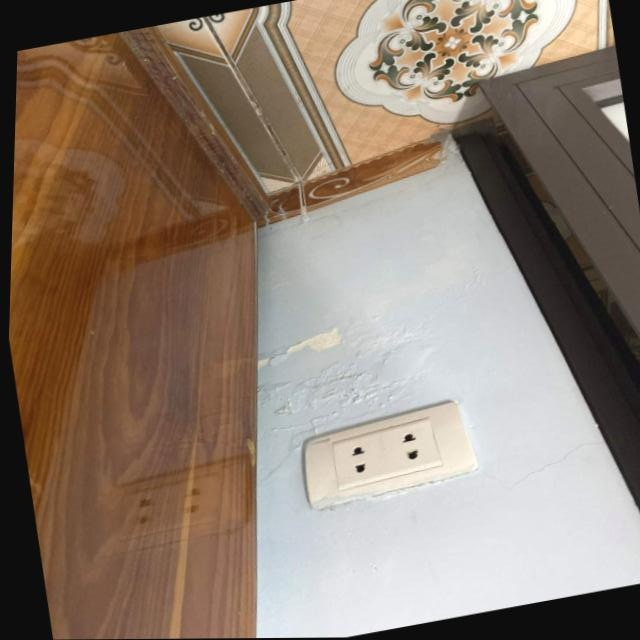outlet: (293, 398, 482, 514)
